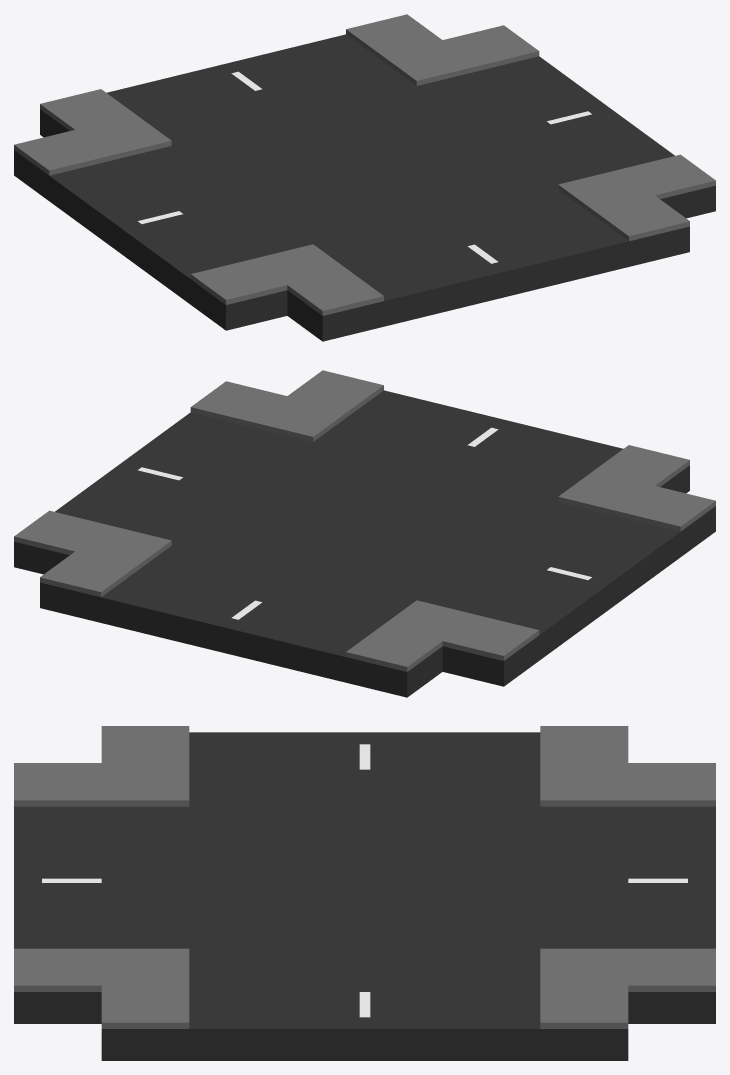
The model's file is Cargo_Cross_20M.fbx.
The picture shows the model from 3 angles, top to bottom: view 1: azimuth 30°, elevation 25°; view 2: azimuth 150°, elevation 25°; view 3: azimuth 270°, elevation 25°; orthographic projection. The views are drawn at different scales.
Parts seen in each view (by area): view 1: Cargo_Cross_20m; view 2: Cargo_Cross_20m; view 3: Cargo_Cross_20m.
Part boxes in pixels (left/top/right/bottom): Cargo_Cross_20m: left=14, top=14, right=715, bottom=341; Cargo_Cross_20m: left=14, top=370, right=715, bottom=697; Cargo_Cross_20m: left=14, top=726, right=715, bottom=1060.
Bounding box in the file's own units: 2000 × 120 × 2000.
